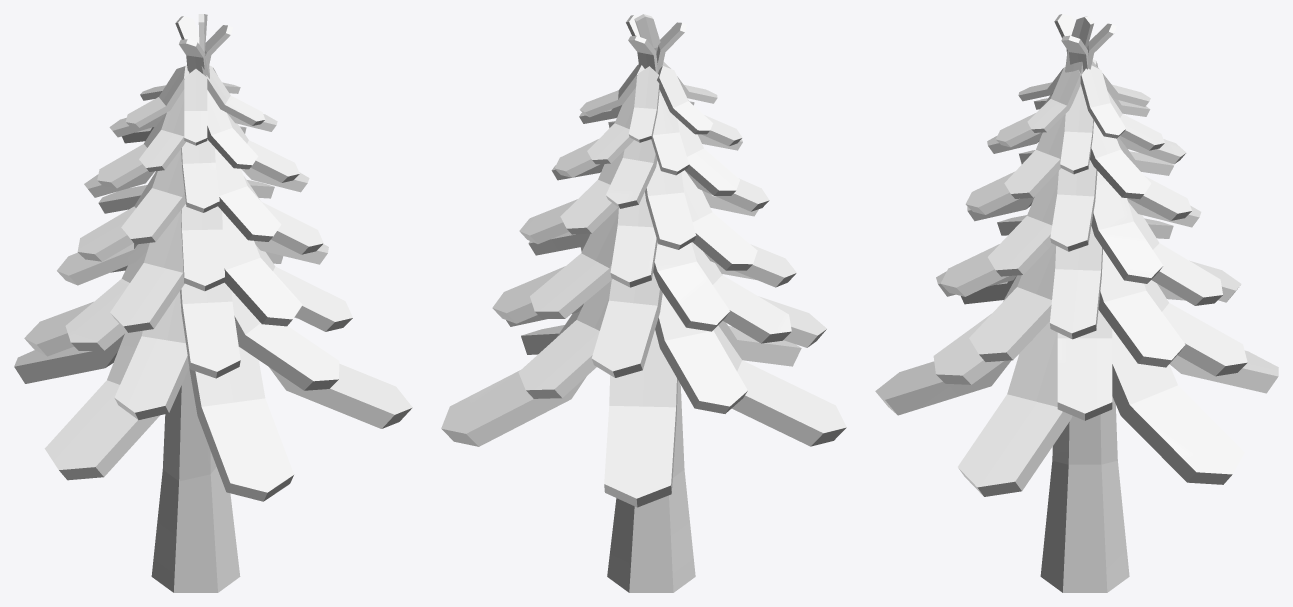
File: arbol2.obj
3 renders of one model, left to right at view 1: azimuth 30°, elevation 25°; view 2: azimuth 150°, elevation 25°; view 3: azimuth 270°, elevation 25°, orthographic.
Visible parts, largest first — view 1: pine01; view 2: pine01; view 3: pine01.
Part boxes in pixels (x1,y1,x2,y2): pine01: (14, 14, 412, 592); pine01: (441, 14, 846, 592); pine01: (875, 14, 1278, 592).
Size of the model in its own units: 6.33 by 10.22 by 6.64.
